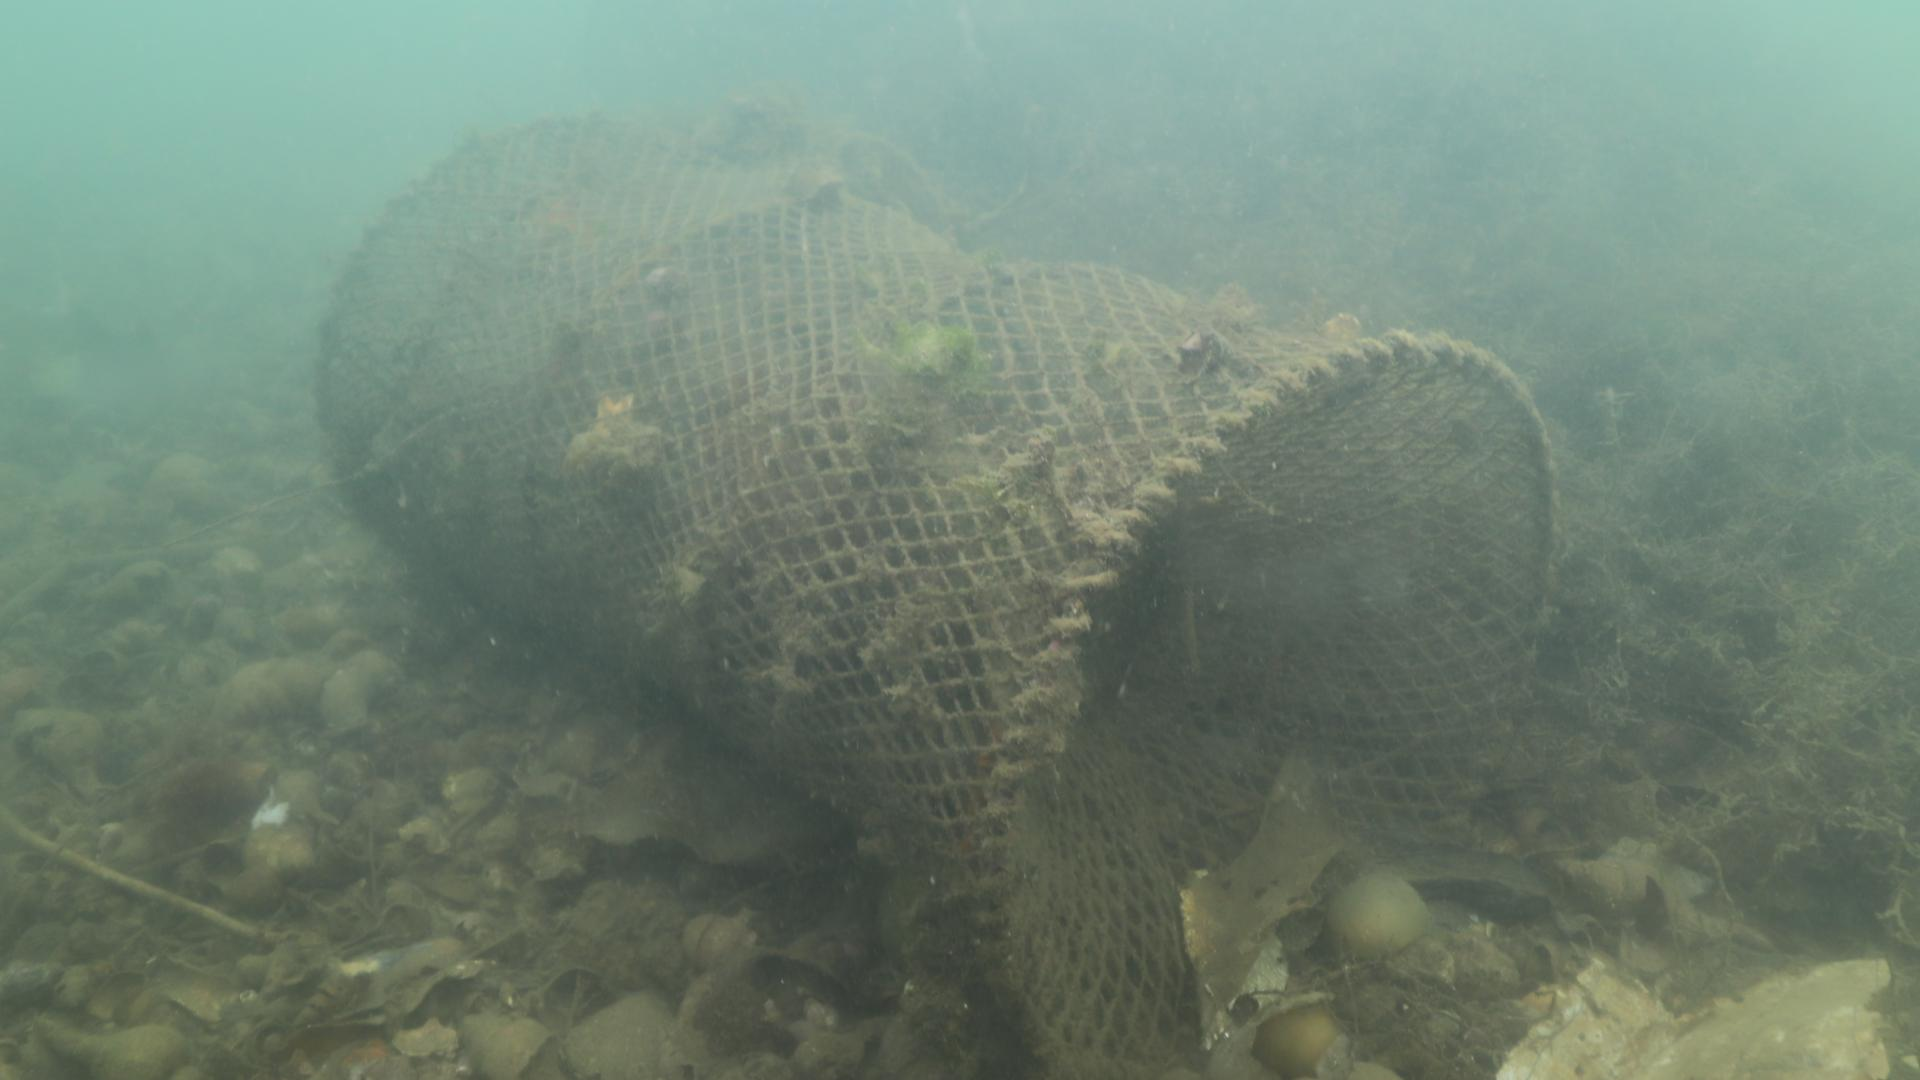spring fish trap: (313, 113, 1557, 1080)
